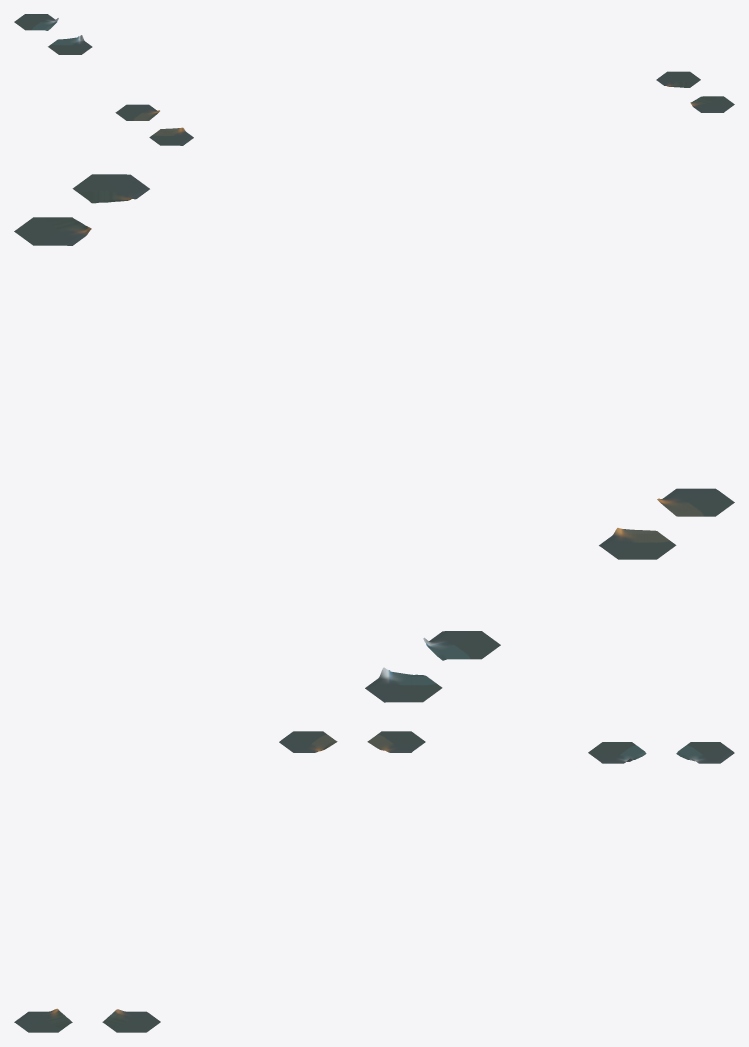
The model's file is plataforma.glb.
3 renders of one model, top to bottom at view 1: azimuth 30°, elevation 25°; view 2: azimuth 150°, elevation 25°; view 3: azimuth 270°, elevation 25°, orthographic. The views are drawn at different scales.
Parts seen in each view (by area): view 1: Shelf_-5_+1, Shelf_-1_-6, Shelf_+5_+7, Shelf_+0_-8, Shelf_-4_-1, Shelf_+6_+5; view 2: Shelf_+0_-8, Shelf_-4_-1, Shelf_+6_+5, Shelf_-1_-6, Shelf_-5_+1, Shelf_+5_+7; view 3: Shelf_+6_+5, Shelf_+5_+7, Shelf_-5_+1, Shelf_-1_-6, Shelf_+0_-8, Shelf_-4_-1.
Boxes of the visible parts, x1=… form: Shelf_-5_+1: x1=149, y1=127, x2=193, y2=145; Shelf_-1_-6: x1=48, y1=35, x2=92, y2=54; Shelf_+5_+7: x1=690, y1=96, x2=734, y2=112; Shelf_+0_-8: x1=14, y1=14, x2=58, y2=30; Shelf_-4_-1: x1=115, y1=104, x2=159, y2=120; Shelf_+6_+5: x1=656, y1=71, x2=700, y2=87; Shelf_+0_-8: x1=365, y1=667, x2=442, y2=702; Shelf_-4_-1: x1=599, y1=528, x2=676, y2=559; Shelf_+6_+5: x1=14, y1=217, x2=91, y2=245; Shelf_-1_-6: x1=423, y1=631, x2=500, y2=660; Shelf_-5_+1: x1=657, y1=488, x2=734, y2=516; Shelf_+5_+7: x1=72, y1=174, x2=149, y2=203; Shelf_+6_+5: x1=102, y1=1009, x2=160, y2=1032; Shelf_+5_+7: x1=14, y1=1008, x2=72, y2=1032; Shelf_-5_+1: x1=279, y1=731, x2=337, y2=752; Shelf_-1_-6: x1=588, y1=742, x2=646, y2=763; Shelf_+0_-8: x1=676, y1=742, x2=734, y2=763; Shelf_-4_-1: x1=367, y1=731, x2=425, y2=752.
Size of the model in its own units: 60622 by 580 by 61250.
